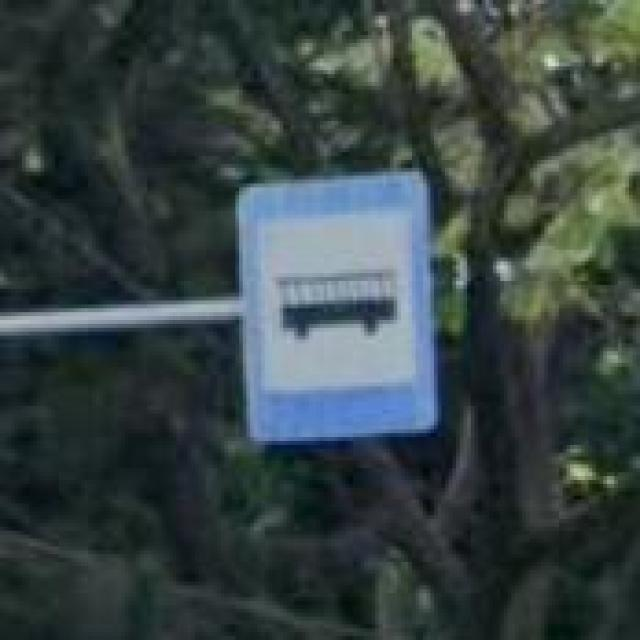traffic sign: (236, 168, 442, 445)
